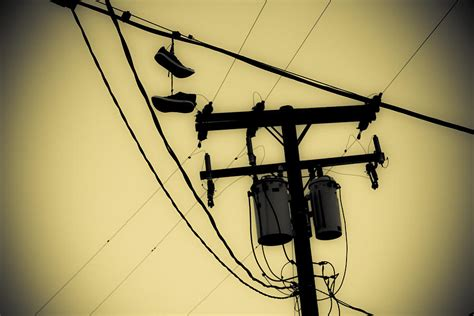pole: (177, 88, 433, 316)
